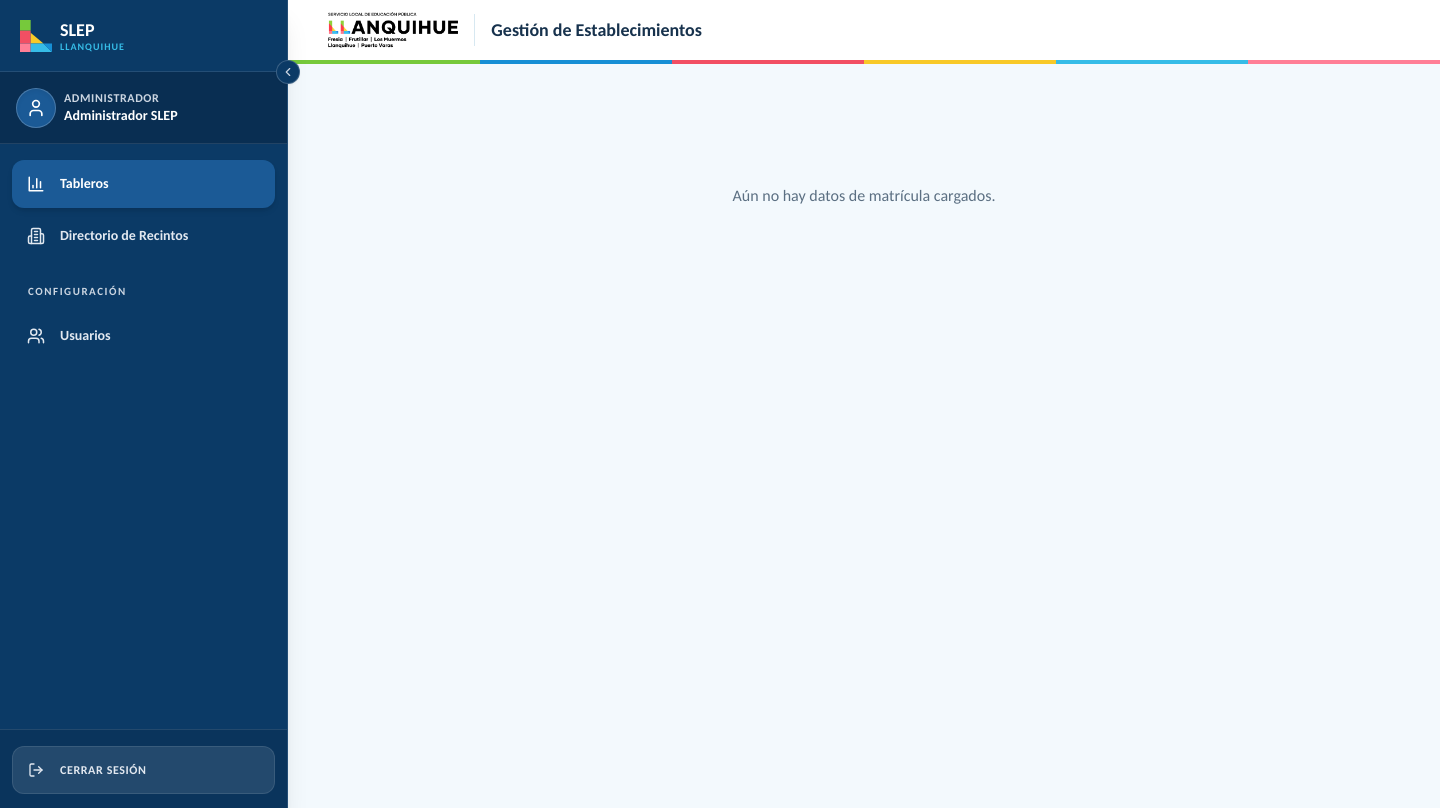
INT09: administración de usuarios de punta a punta › INT09-A: el admin global entra por el menú y ve la lista
Click the link "Usuarios" at {"x": 69, "y": 336}, box [27,327,111,345]
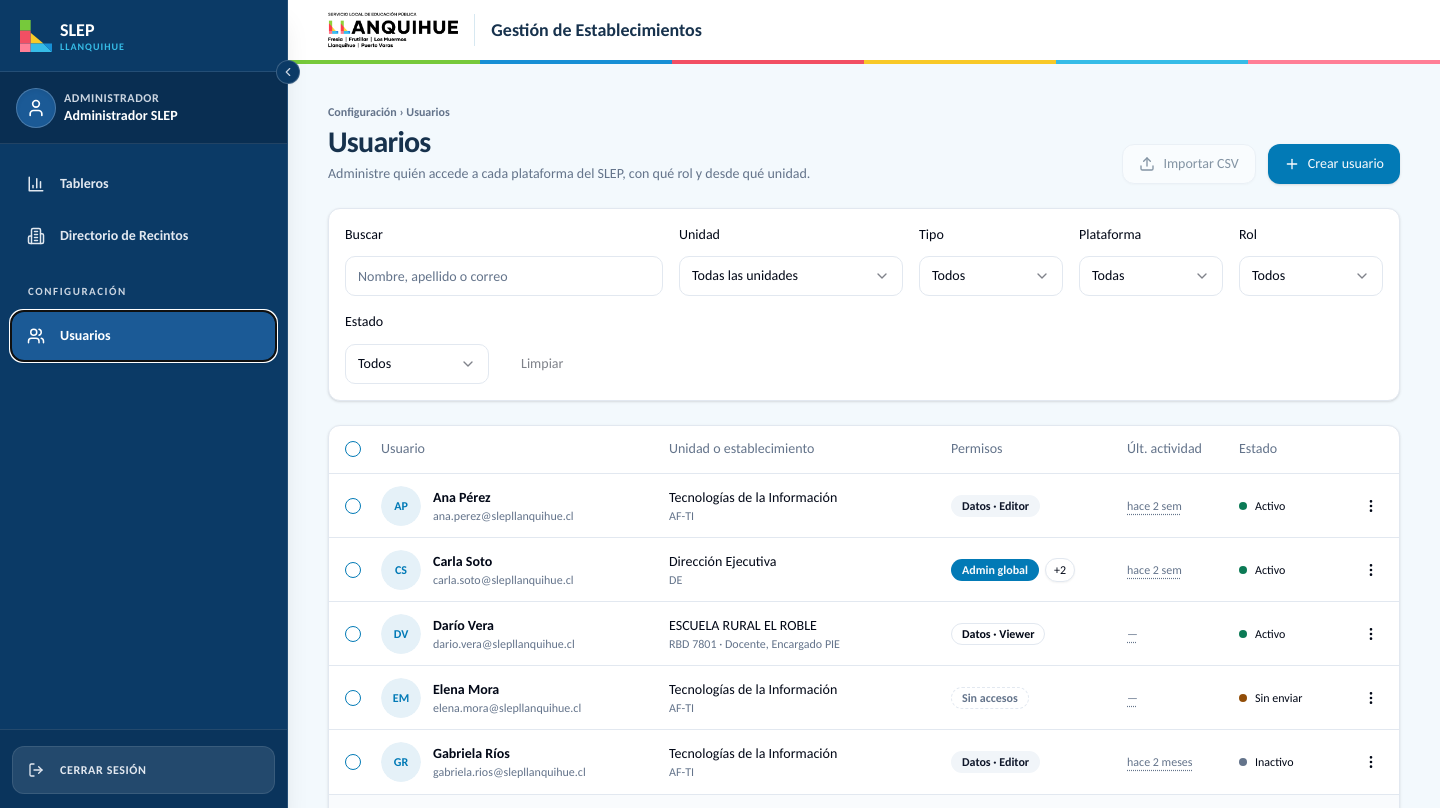
Check: the heading "Usuarios" is shown, box [328,123,431,160]
Check: the text "Ana Pérez" is shown, box [433,488,491,506]
